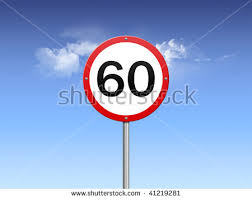Speed_limit_60km: (83, 34, 170, 122)
